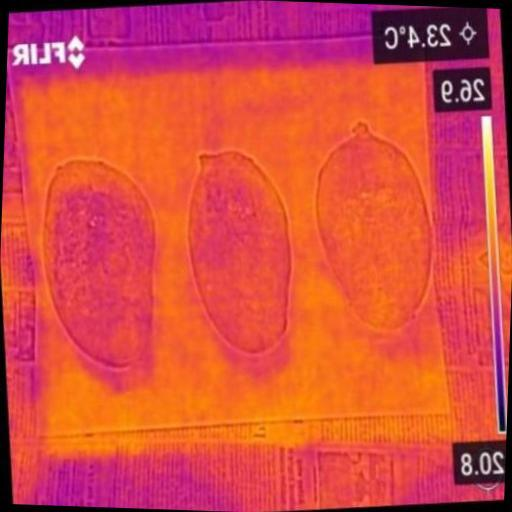alphanso: (318, 124, 431, 329), (45, 160, 154, 368), (189, 153, 290, 354)
